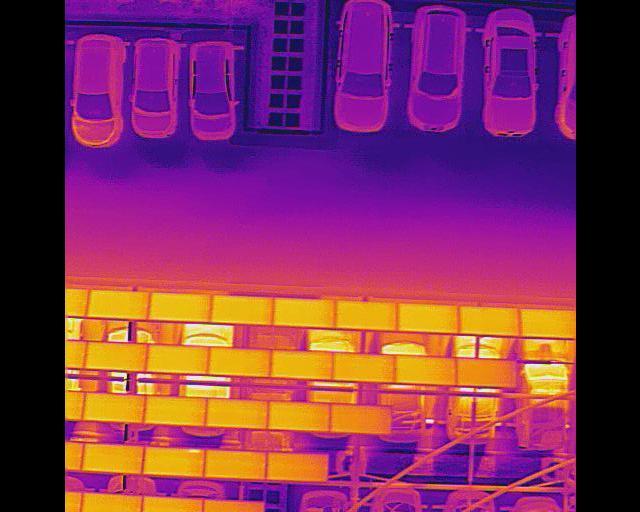Cell: (143, 448, 204, 478)
No-Anomaly: (457, 306, 520, 337), (395, 304, 458, 334), (328, 405, 391, 435), (271, 299, 335, 328), (204, 451, 265, 481), (270, 351, 333, 380), (86, 291, 148, 320), (332, 354, 393, 383), (519, 309, 576, 340), (81, 394, 144, 422), (209, 348, 269, 377), (148, 293, 208, 322), (394, 356, 456, 384), (210, 296, 272, 324), (335, 303, 396, 331), (266, 453, 327, 481), (146, 346, 207, 374), (84, 343, 145, 371), (81, 445, 142, 473), (455, 360, 516, 388), (266, 404, 329, 431), (205, 401, 267, 428), (144, 397, 203, 425), (80, 495, 139, 512), (141, 498, 201, 512), (201, 500, 264, 512)
